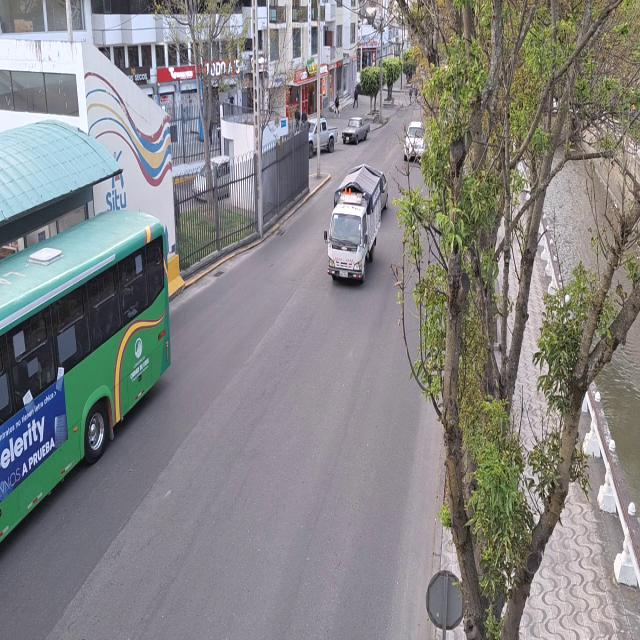BUS: (0, 222, 162, 551)
CMT: (343, 118, 370, 144)
TRUCK: (327, 168, 386, 283)
